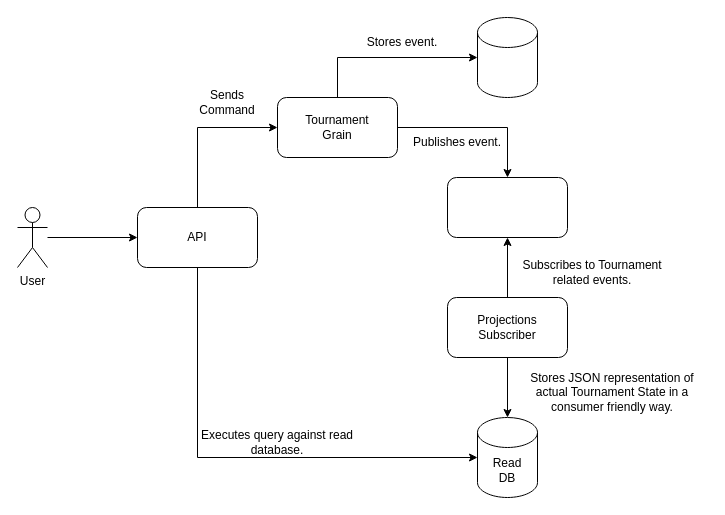
Some shapes in this 725 by 515 pixel diagram are drawn without their labels. The shapes that lost their labels are listed below. From the top down, each one's centre as x and y in pixels, then its label:
point 507,57: Write DB
point 507,207: Orleans Stream
